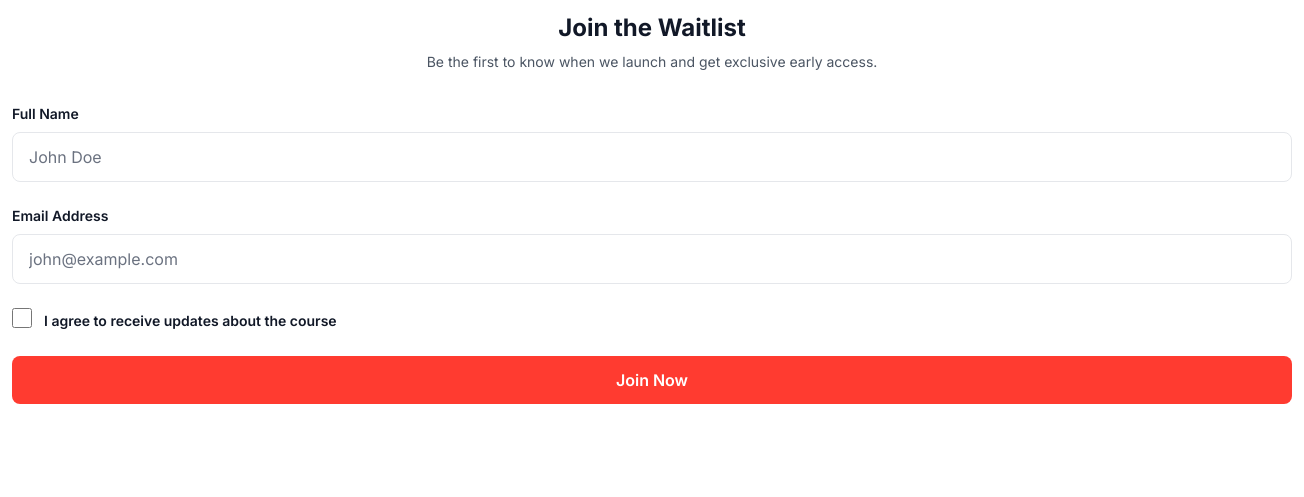
Test: WaitlistForm › handles duplicate email error
// Fill form with duplicate email
Type "Jane Doe" into the field labelled "Full Name".
click(652, 157); type("Jane Doe")  # box [12,132,1292,182]
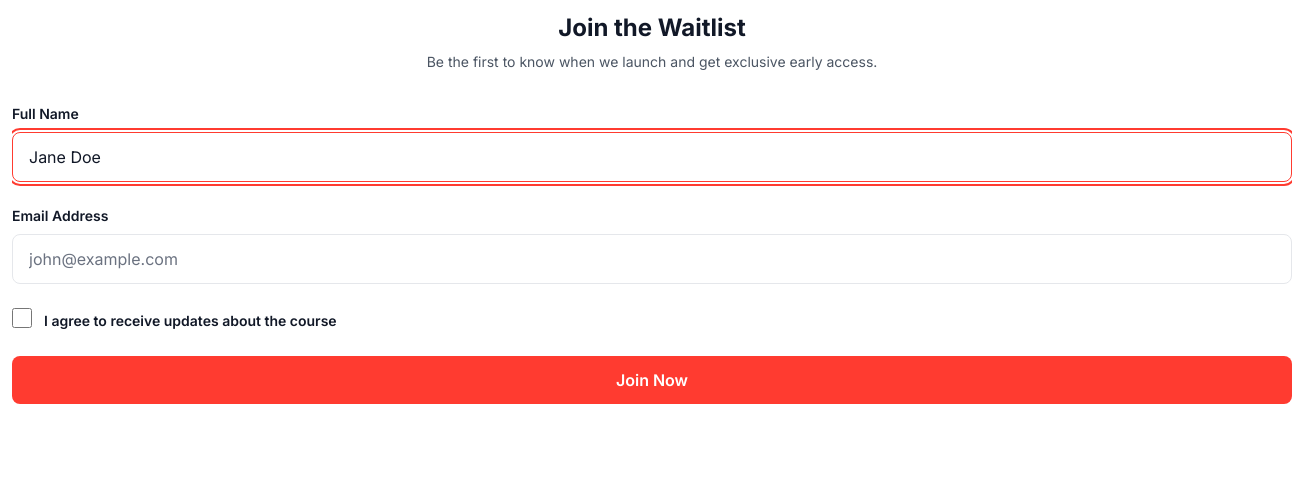
Type "duplicate@example.com" into the field labelled "Email Address".
click(652, 259); type("duplicate@example.com")  # box [12,234,1292,284]
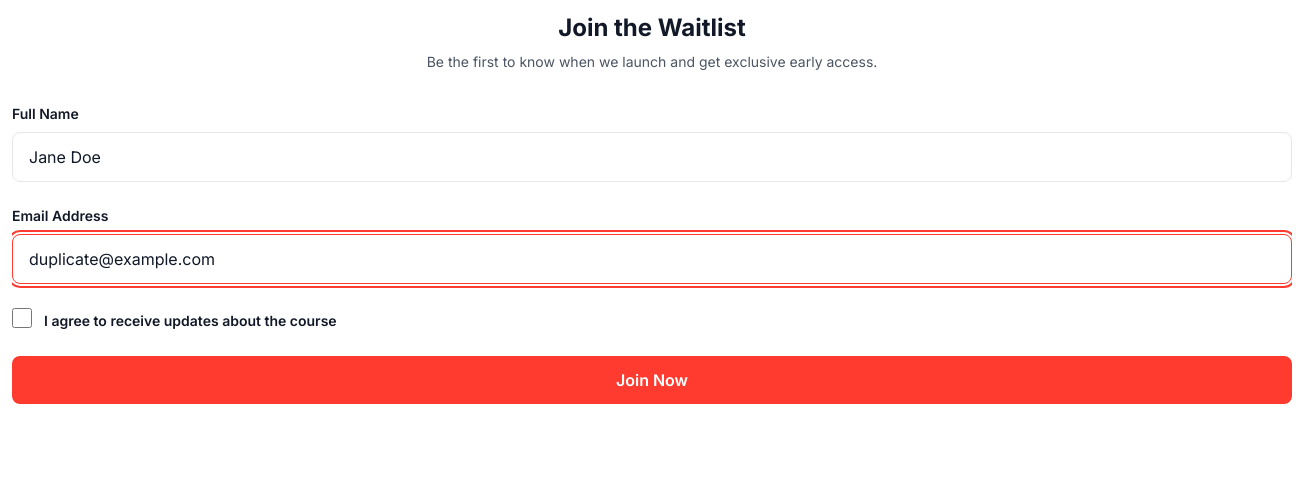
// Submit form
Click the button "Join Now".
click(652, 380)  # box [12,356,1292,404]
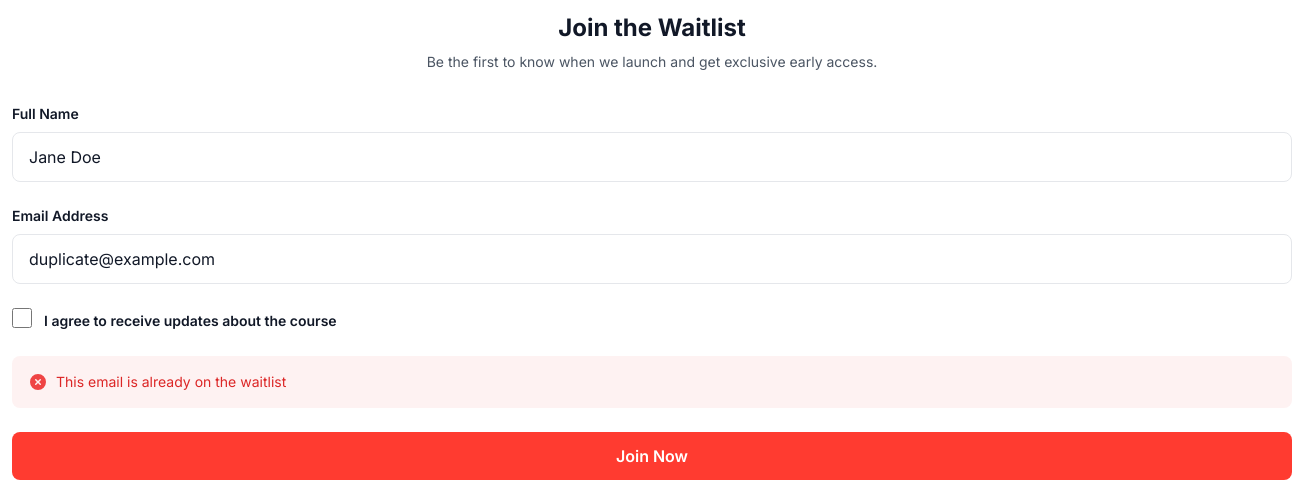
Now the text "This email is already on the waitlist" is shown, box [56,372,286,392]
